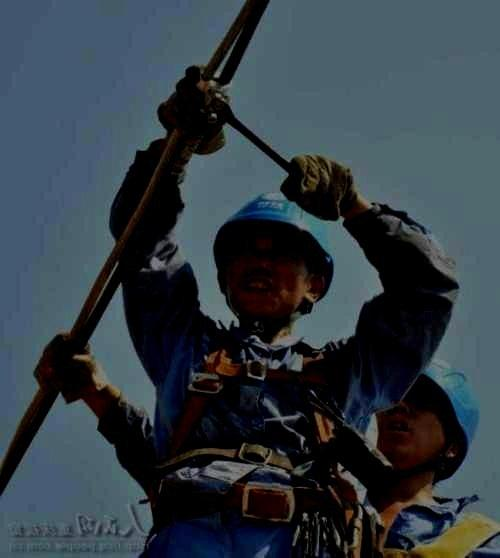helmet: (212, 189, 335, 319), (375, 357, 479, 480)
